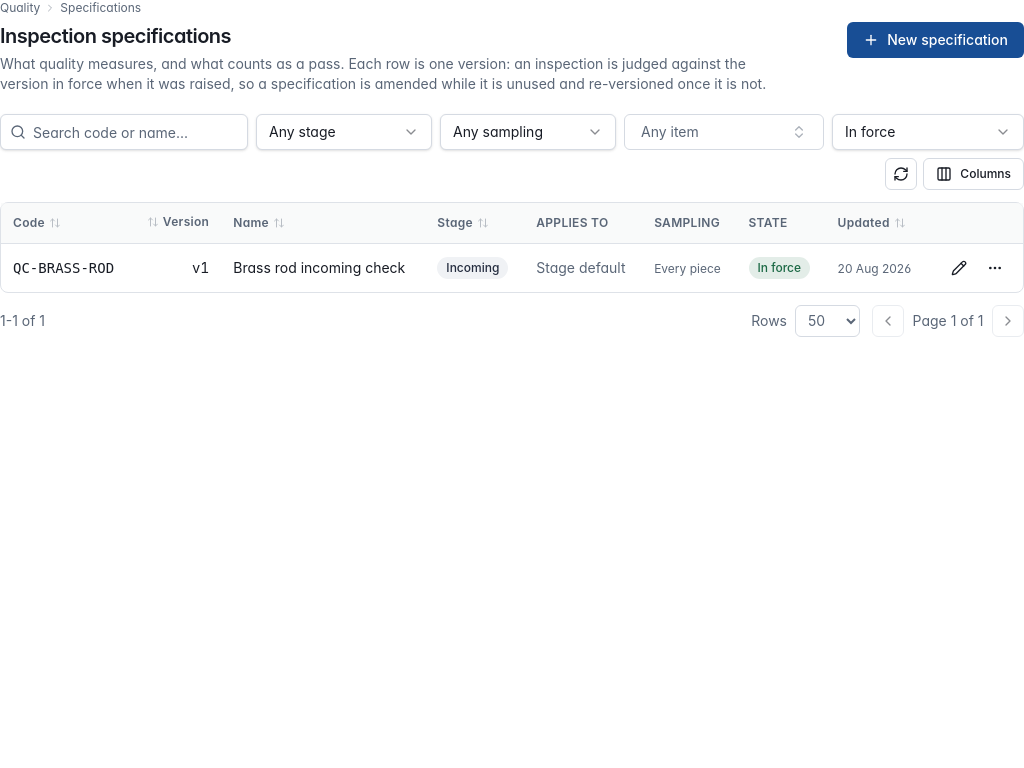
amending a version › keeps the code out of the payload, because a version cannot be renamed
Click the button named "Amend QC-BRASS-ROD v1".
click(959, 268)  # box [943,252,975,284]
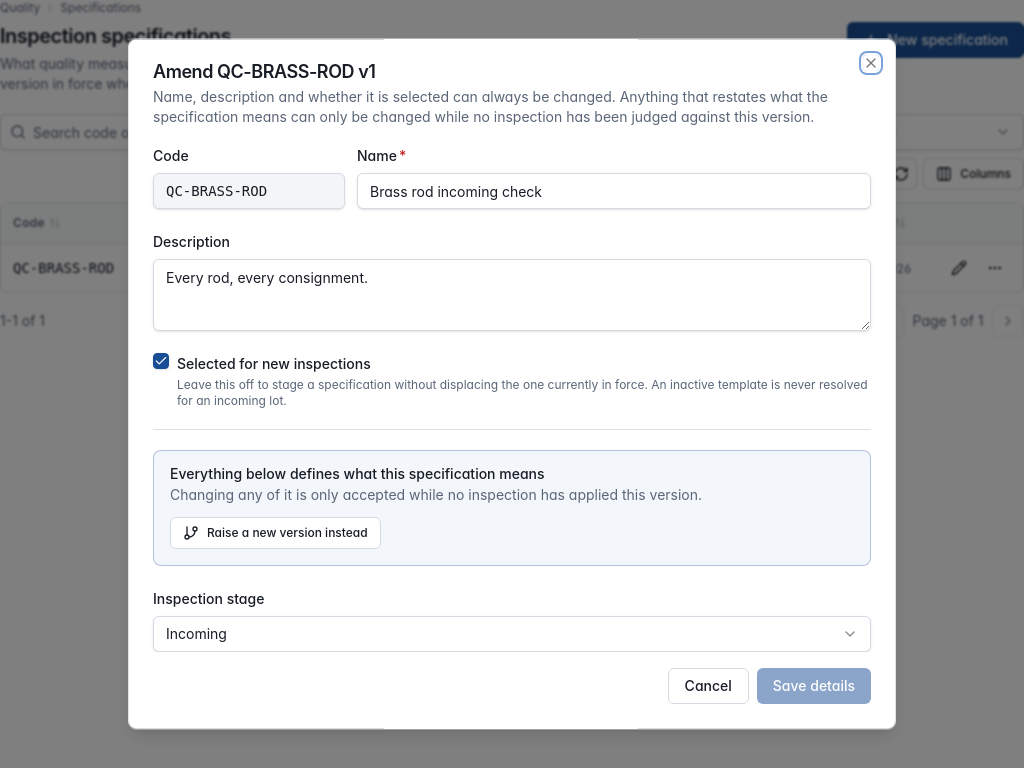
Check: the field showing "Brass rod incoming check" is shown, box [357,173,871,209]
